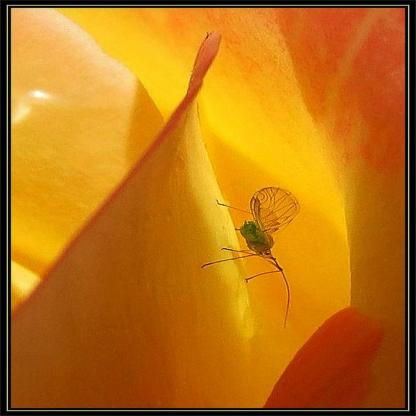aphid: (210, 174, 307, 321)
